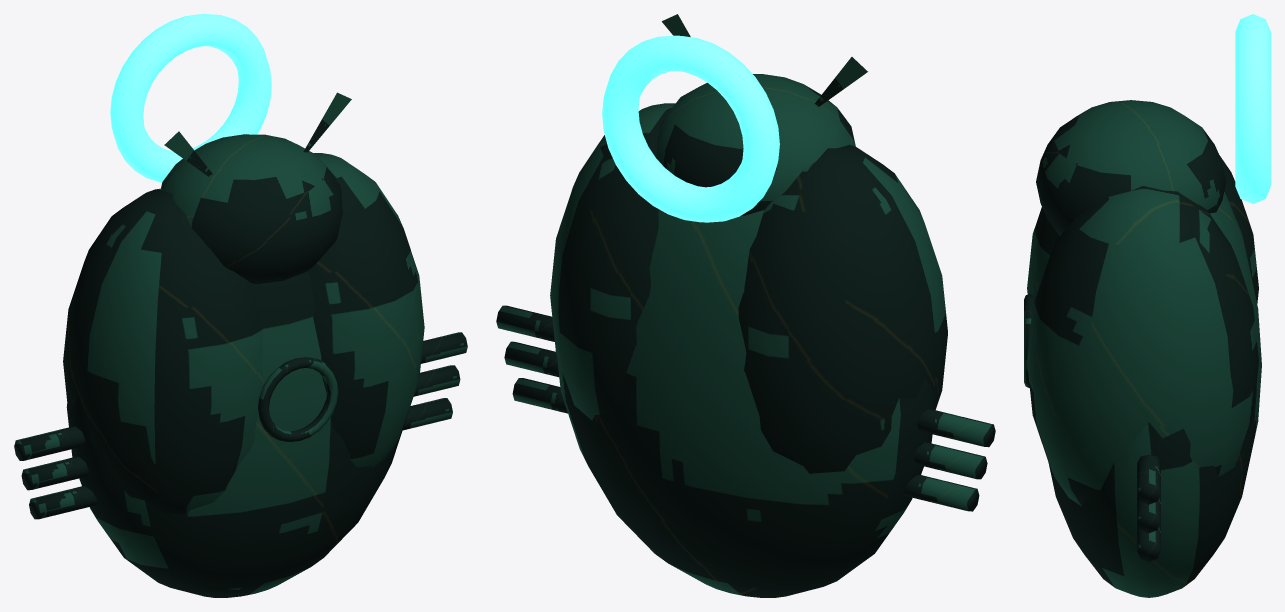
Rendered from scarab_amulet_pattern_jade.fbx.
3 views of the same model, side by side, from view 1: azimuth 30°, elevation 25°; view 2: azimuth 150°, elevation 25°; view 3: azimuth 270°, elevation 25° (orthographic). The views are drawn at different scales.
Parts seen in each view (by area): view 1: TH10_Scarab_Elytron, TH10_Scarab_Core, TH10_Scarab_Elytron.001, TH10_Scarab_Head, TH10_Scarab_Handle, TH10_Scarab_Scar, TH10_Scarab_Leg.002, TH10_Scarab_Leg, TH10_Scarab_Leg.001, TH10_Scarab_Leg.003, TH10_Scarab_Leg.005, TH10_Scarab_Leg.004 (+2 smaller); view 2: TH10_Scarab_Core, TH10_Scarab_Elytron, TH10_Scarab_Elytron.001, TH10_Scarab_Handle, TH10_Scarab_Head, TH10_Scarab_Leg.002, TH10_Scarab_Leg, TH10_Scarab_Leg.001, TH10_Scarab_Leg.005, TH10_Scarab_Leg.004, TH10_Scarab_Leg.003, TH10_Scarab_Antenna; view 3: TH10_Scarab_Elytron.001, TH10_Scarab_Core, TH10_Scarab_Head, TH10_Scarab_Handle, TH10_Scarab_Elytron, TH10_Scarab_Leg.005, TH10_Scarab_Leg.003, TH10_Scarab_Leg.004, TH10_Scarab_Scar.
Part boxes in pixels (left/top/right/bottom): TH10_Scarab_Elytron: left=63, top=188, right=263, bottom=513; TH10_Scarab_Core: left=66, top=270, right=408, bottom=597; TH10_Scarab_Elytron.001: left=308, top=153, right=424, bottom=467; TH10_Scarab_Head: left=161, top=134, right=342, bottom=283; TH10_Scarab_Handle: left=110, top=14, right=271, bottom=182; TH10_Scarab_Scar: left=258, top=357, right=337, bottom=441; TH10_Scarab_Leg.002: left=14, top=426, right=85, bottom=460; TH10_Scarab_Leg: left=29, top=486, right=97, bottom=519; TH10_Scarab_Leg.001: left=21, top=456, right=88, bottom=490; TH10_Scarab_Leg.003: left=402, top=398, right=452, bottom=430; TH10_Scarab_Leg.005: left=421, top=332, right=467, bottom=363; TH10_Scarab_Leg.004: left=413, top=365, right=460, bottom=396; TH10_Scarab_Core: left=557, top=209, right=935, bottom=597; TH10_Scarab_Elytron: left=738, top=144, right=947, bottom=473; TH10_Scarab_Elytron.001: left=550, top=103, right=675, bottom=420; TH10_Scarab_Handle: left=602, top=35, right=779, bottom=222; TH10_Scarab_Head: left=656, top=74, right=855, bottom=215; TH10_Scarab_Leg.002: left=917, top=409, right=995, bottom=447; TH10_Scarab_Leg: left=904, top=474, right=979, bottom=511; TH10_Scarab_Leg.001: left=913, top=442, right=987, bottom=479; TH10_Scarab_Leg.005: left=496, top=305, right=554, bottom=341; TH10_Scarab_Leg.004: left=504, top=341, right=559, bottom=377; TH10_Scarab_Leg.003: left=512, top=378, right=567, bottom=413; TH10_Scarab_Antenna: left=814, top=57, right=867, bottom=106; TH10_Scarab_Elytron.001: left=1027, top=186, right=1258, bottom=506; TH10_Scarab_Core: left=1048, top=192, right=1261, bottom=597; TH10_Scarab_Head: left=1036, top=100, right=1226, bottom=236; TH10_Scarab_Handle: left=1235, top=14, right=1270, bottom=203; TH10_Scarab_Elytron: left=1027, top=155, right=1258, bottom=303; TH10_Scarab_Leg.005: left=1137, top=454, right=1160, bottom=504; TH10_Scarab_Leg.003: left=1137, top=523, right=1160, bottom=561; TH10_Scarab_Leg.004: left=1137, top=494, right=1160, bottom=532; TH10_Scarab_Scar: left=1024, top=293, right=1035, bottom=388.
Bounding box in the file's own units: 0.179 × 0.208 × 0.083.
2 materials, 1 textured.
